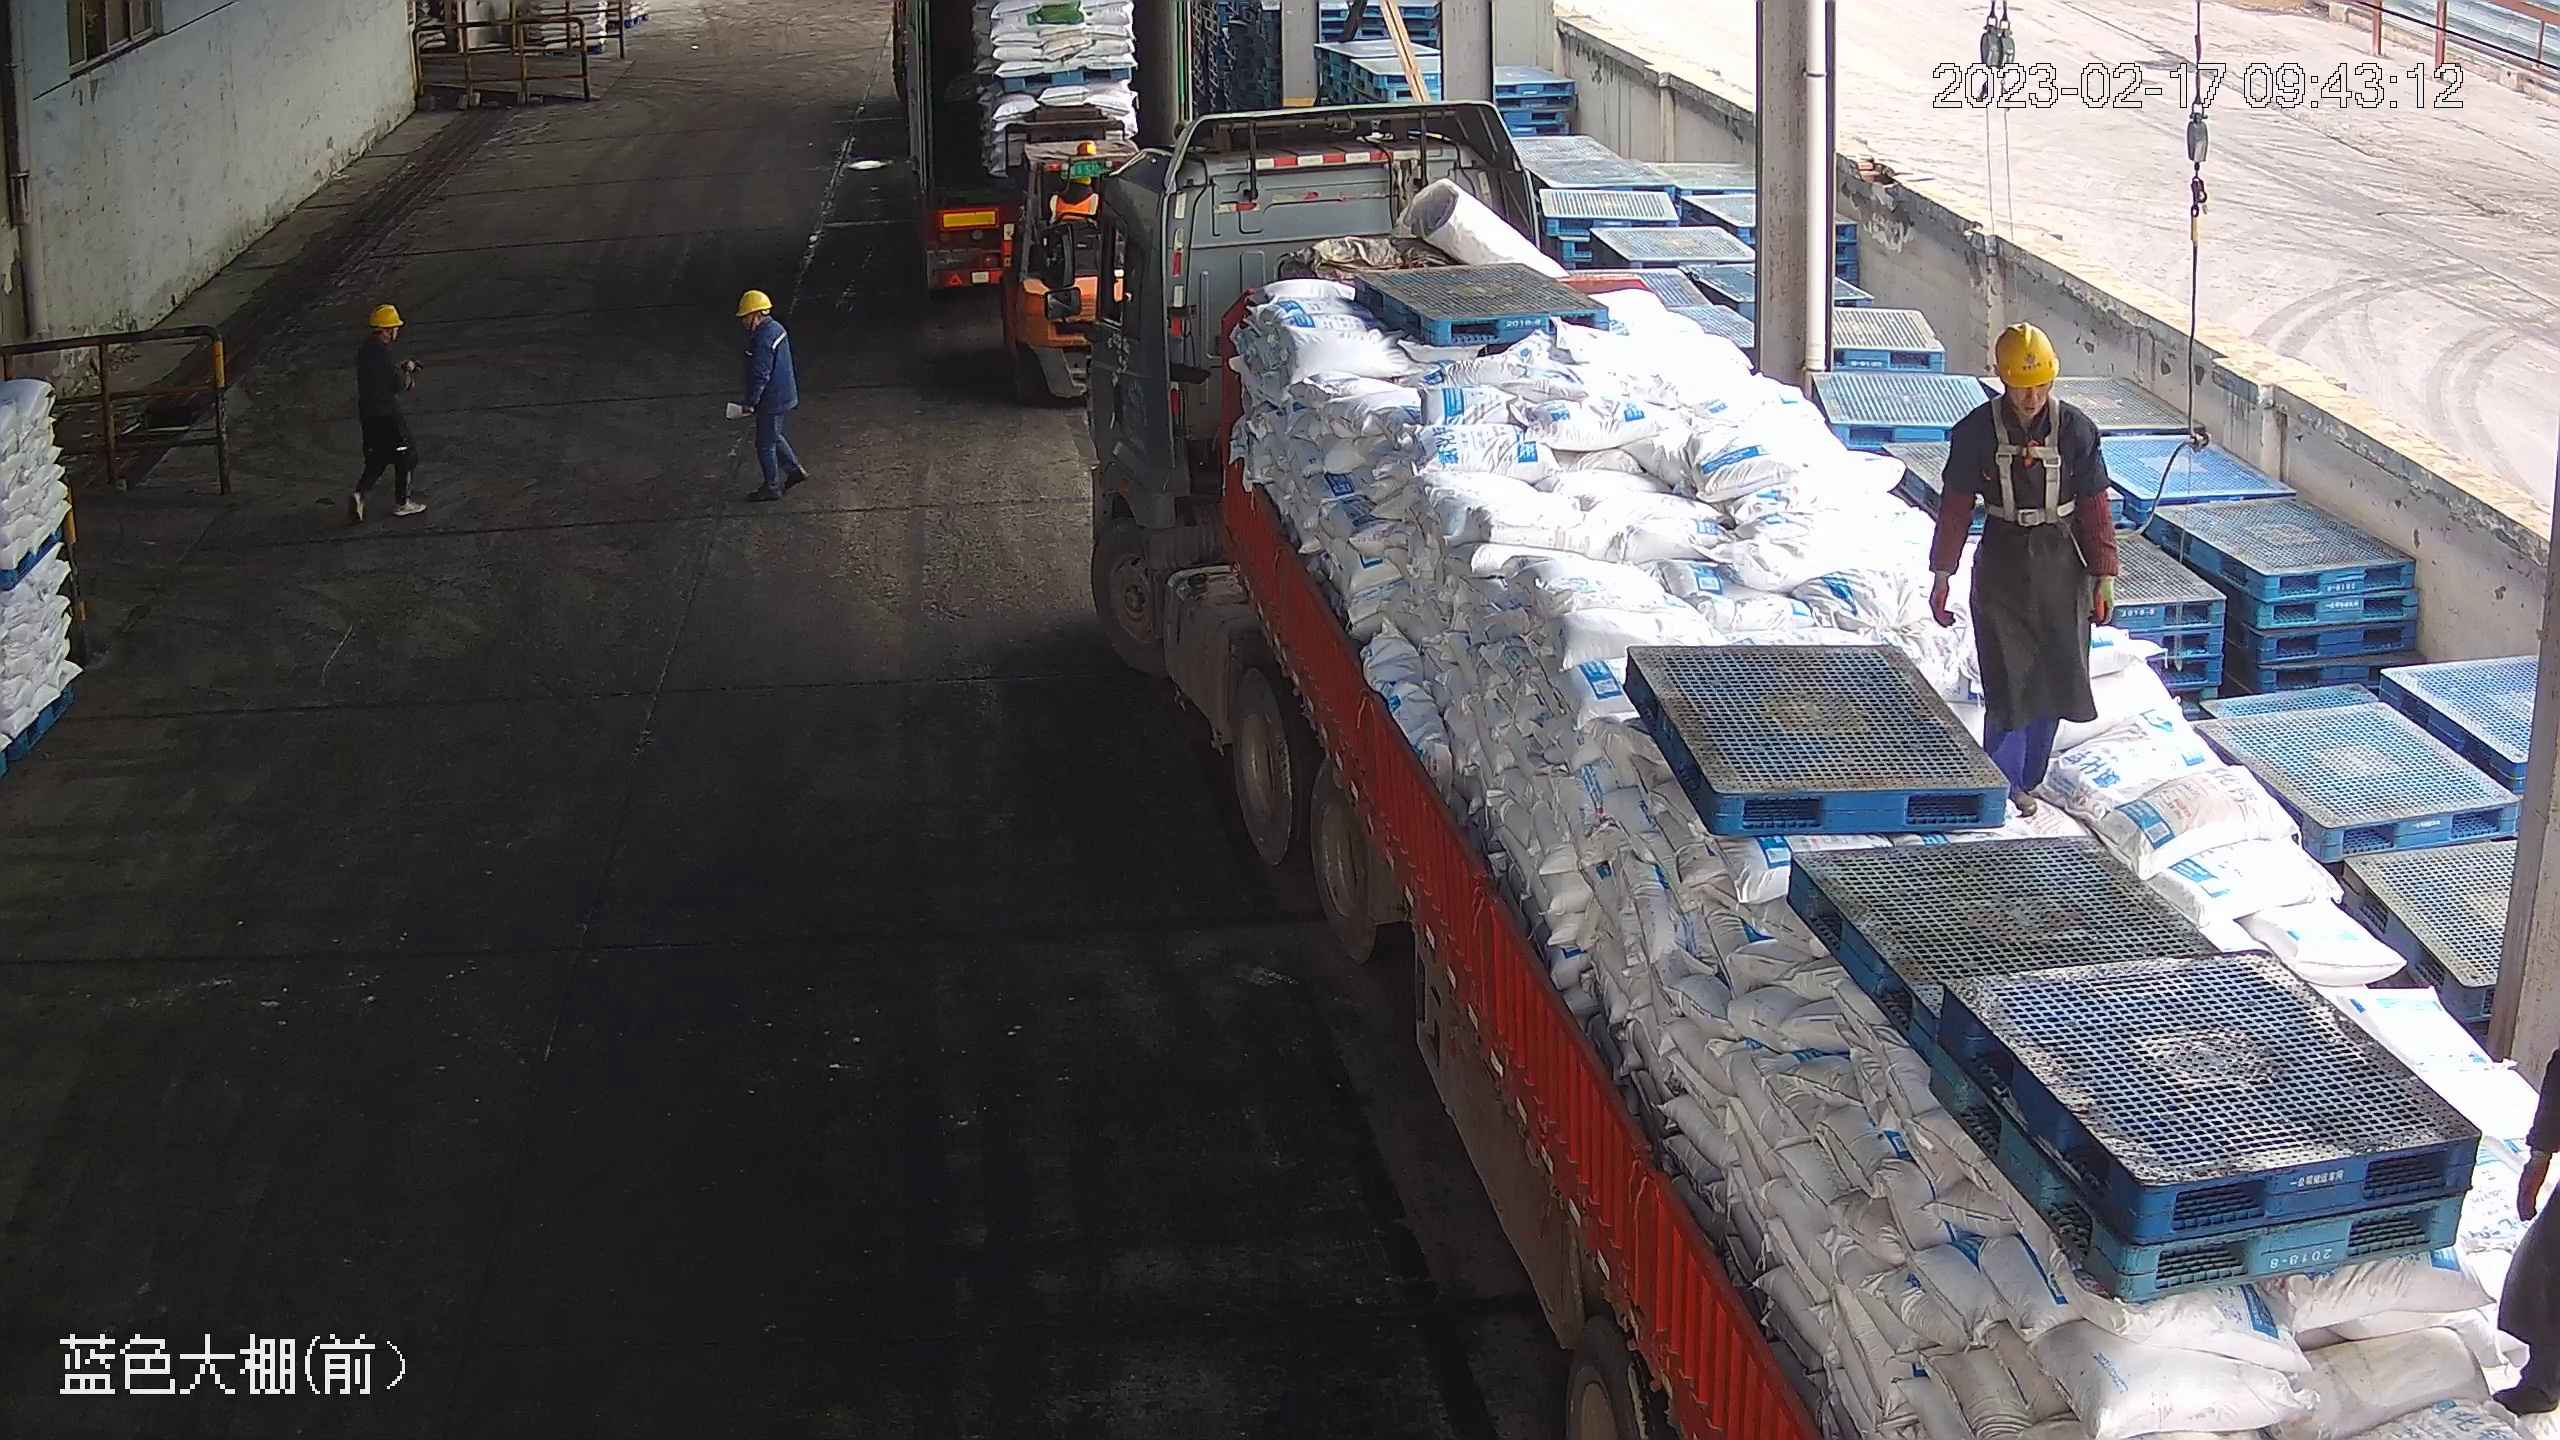belt: (1982, 383, 2086, 526)
head: (1935, 319, 2105, 467), (355, 301, 418, 384), (732, 287, 794, 364)
helmet: (1986, 318, 2060, 387), (733, 284, 771, 315), (366, 301, 399, 326)
people: (1927, 316, 2120, 822), (346, 297, 430, 522), (732, 284, 812, 505)
truck: (1040, 99, 2552, 1440), (891, 2, 1186, 298)
